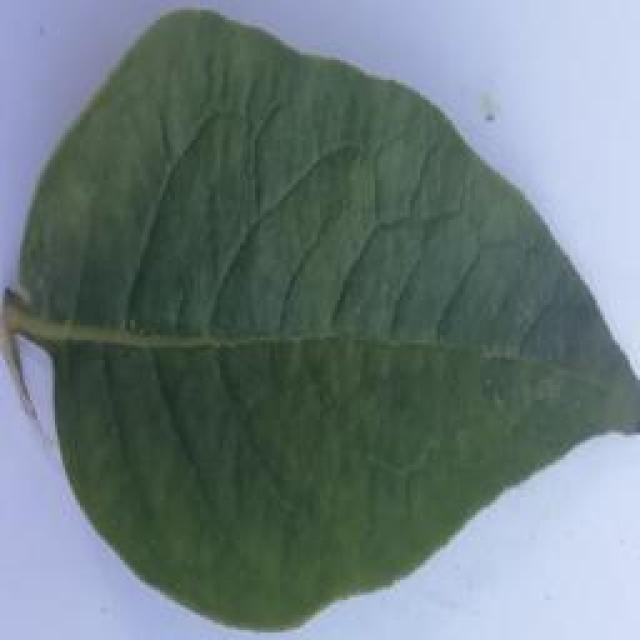Potato_Healthy: (6, 7, 628, 630)
